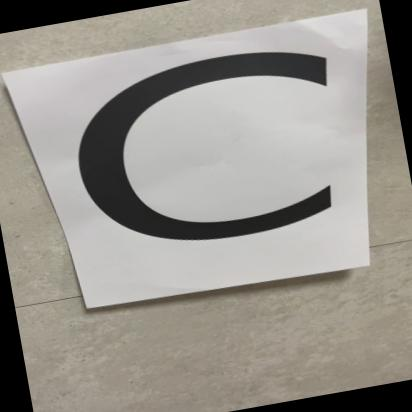seat: (12, 20, 362, 319)
